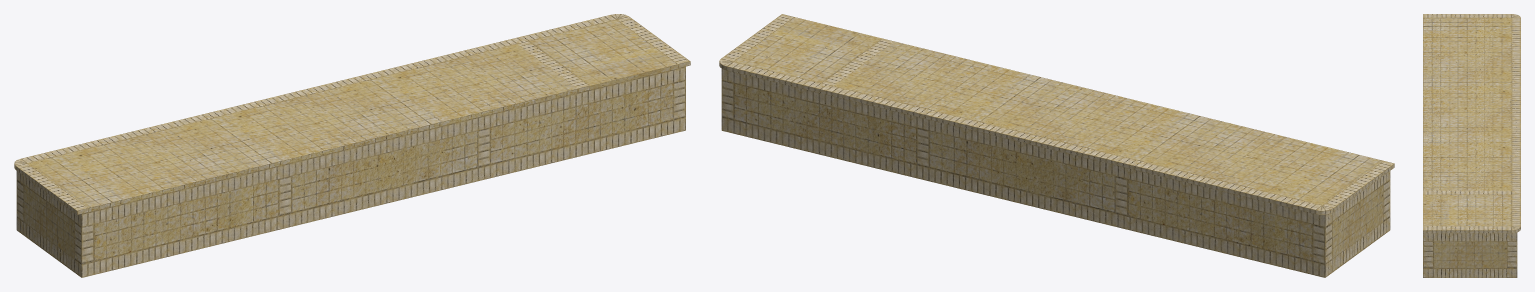
The model's file is tutorial_structure_block06.dae.
3 views of the same model, side by side, from view 1: azimuth 30°, elevation 25°; view 2: azimuth 150°, elevation 25°; view 3: azimuth 270°, elevation 25° (orthographic). The views are drawn at different scales.
Visible parts, largest first — view 1: tutorial_structure_block06; view 2: tutorial_structure_block06; view 3: tutorial_structure_block06.
Boxes of the visible parts, box(x1,y1,x2,y2) form: tutorial_structure_block06: box(14, 14, 690, 277); tutorial_structure_block06: box(719, 14, 1394, 277); tutorial_structure_block06: box(1423, 14, 1520, 277).
Size of the model in its own units: 36.7 by 7.02 by 3.89.
3 materials, 3 textured.
